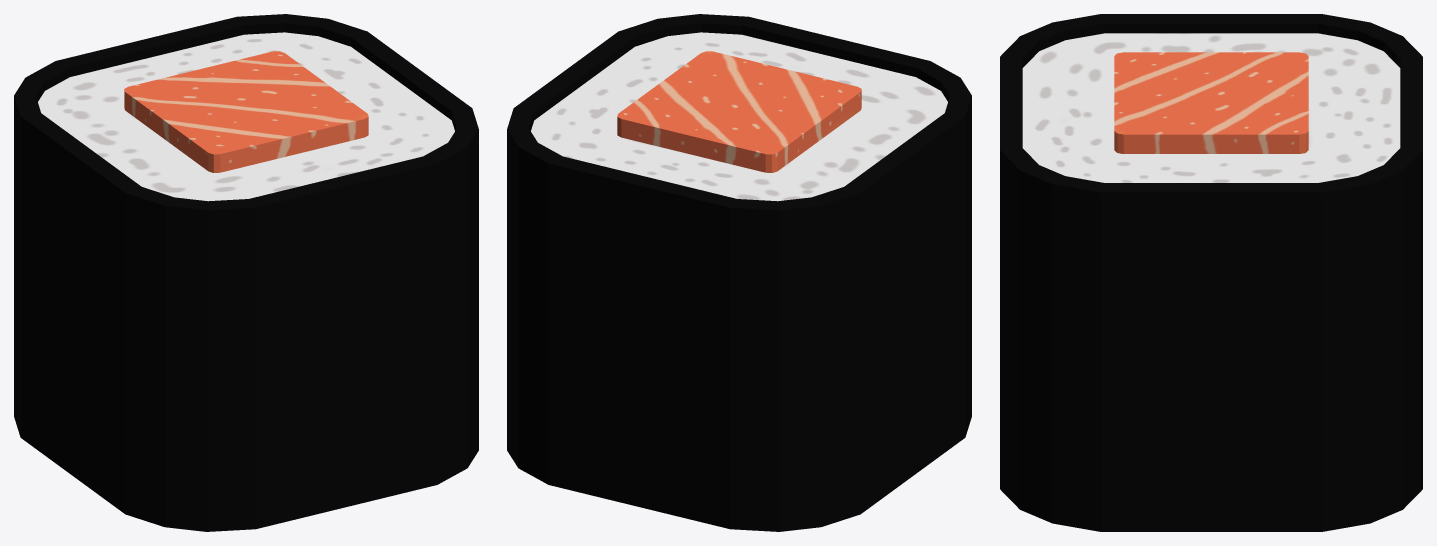
File: Sushi.fbx
The picture shows the model from 3 angles, left to right: view 1: azimuth 30°, elevation 25°; view 2: azimuth 150°, elevation 25°; view 3: azimuth 270°, elevation 25°; orthographic projection. The views are drawn at different scales.
Visible parts, largest first — view 1: Sushi; view 2: Sushi; view 3: Sushi.
Boxes of the visible parts, x1,y1,x2,y2 form: Sushi: [14, 14, 478, 531]; Sushi: [507, 14, 971, 531]; Sushi: [1000, 14, 1422, 531].
Size of the model in its own units: 1 by 0.9114 by 1.
